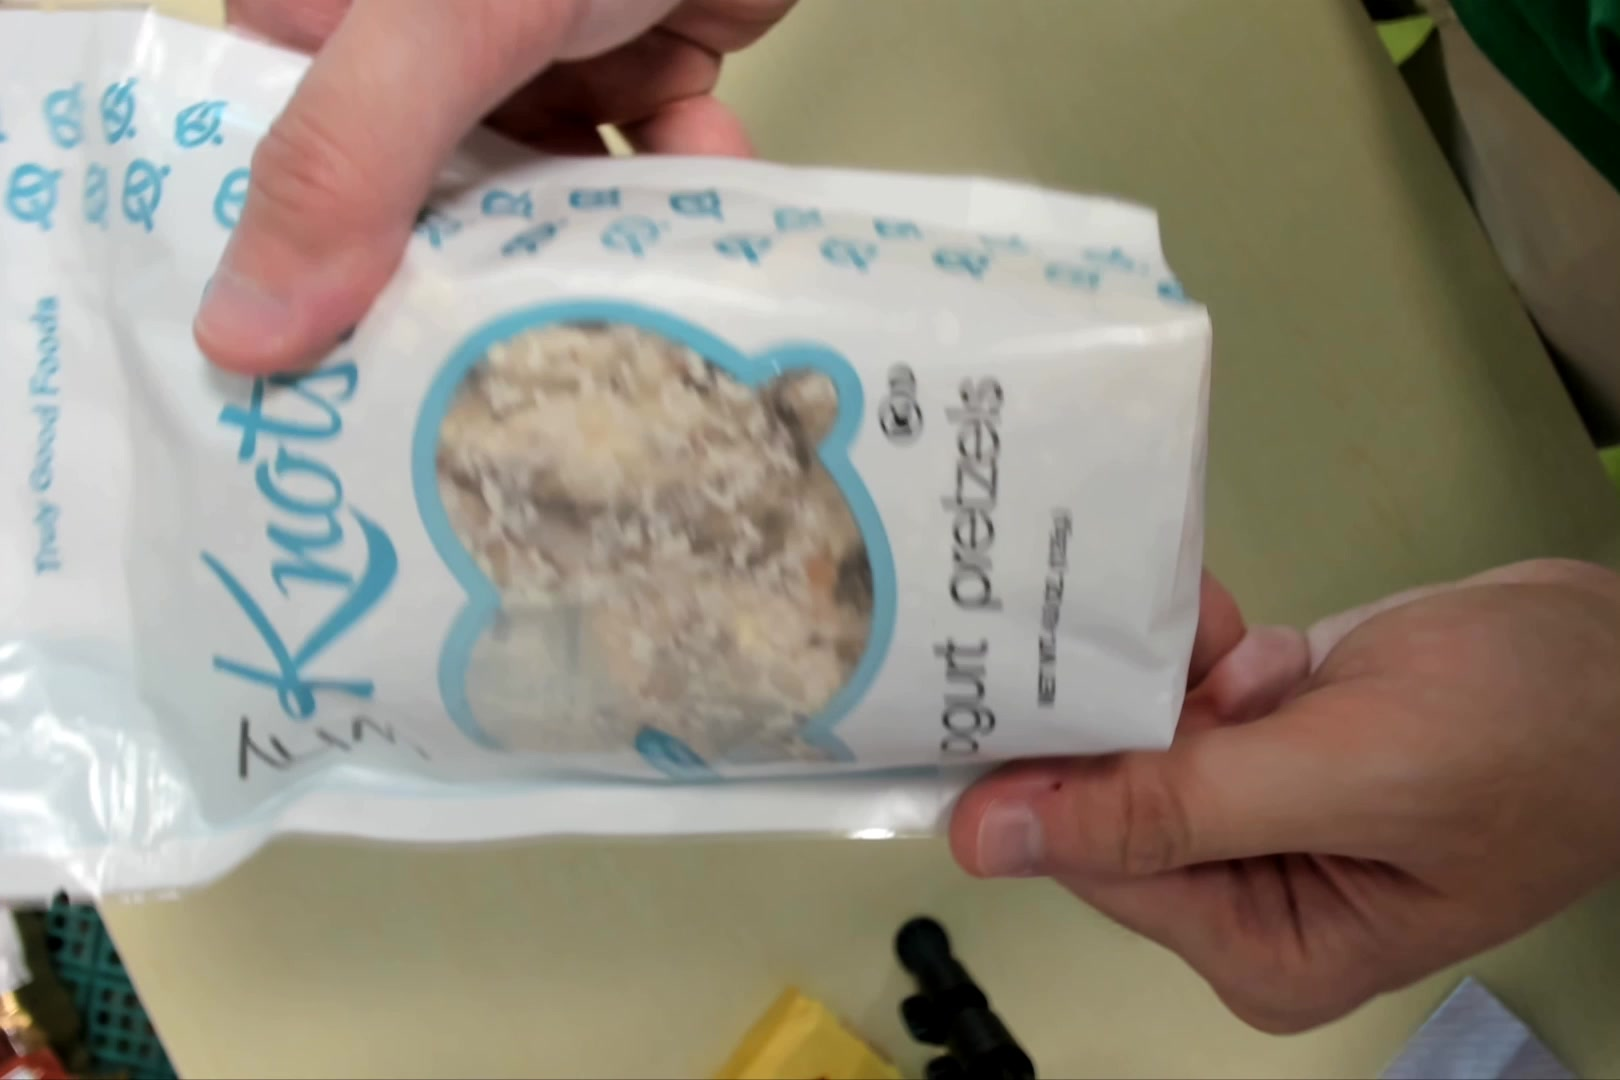SweetsChocolatesOthers_100-199g_NonHalal_NonHealthy: (5, 14, 1209, 845)
